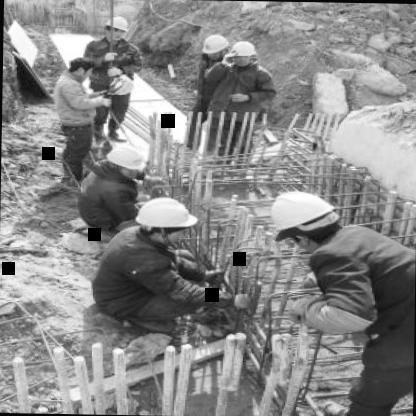head: (62, 54, 96, 78)
helmet: (262, 186, 350, 253), (131, 193, 202, 248), (104, 144, 146, 182), (100, 14, 132, 48), (200, 30, 230, 62), (227, 41, 257, 72)
